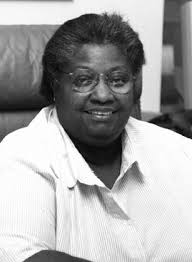black_female: (52, 39, 150, 148)
